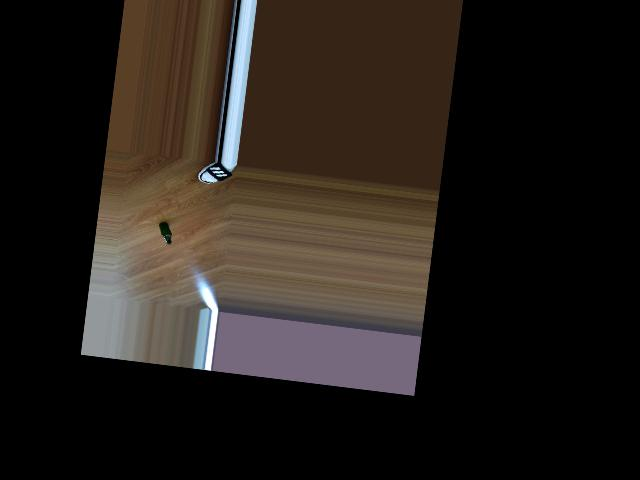beer: (157, 221, 174, 244)
